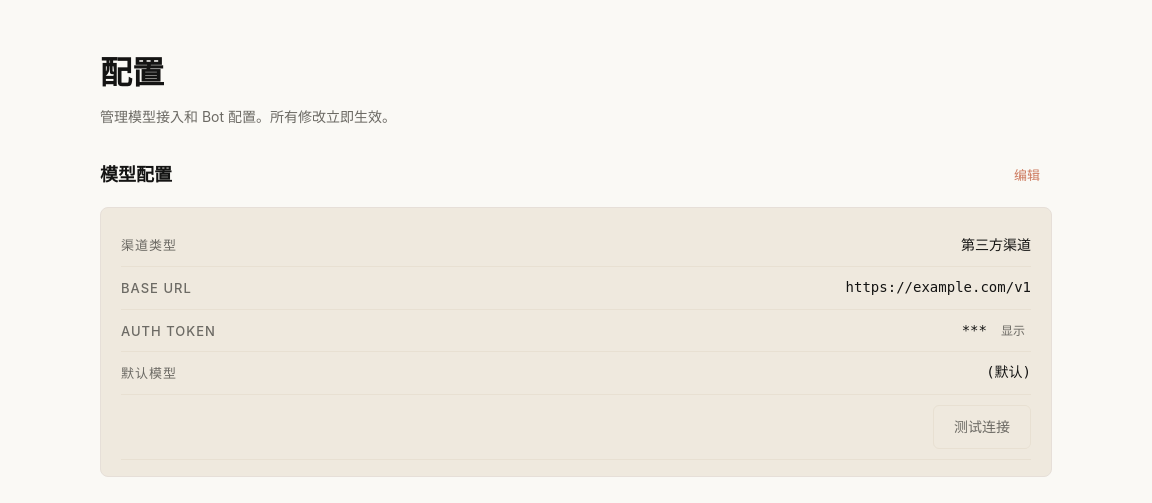
it: Config Page › Model Config Section › reveals masked Auth Token by loading plaintext admin config
The image size is (1152, 503).
Expected: the heading "模型配置" is shown, [100, 161, 172, 189]
Click the button "编辑" at (1027,175), box [1002, 159, 1052, 191]
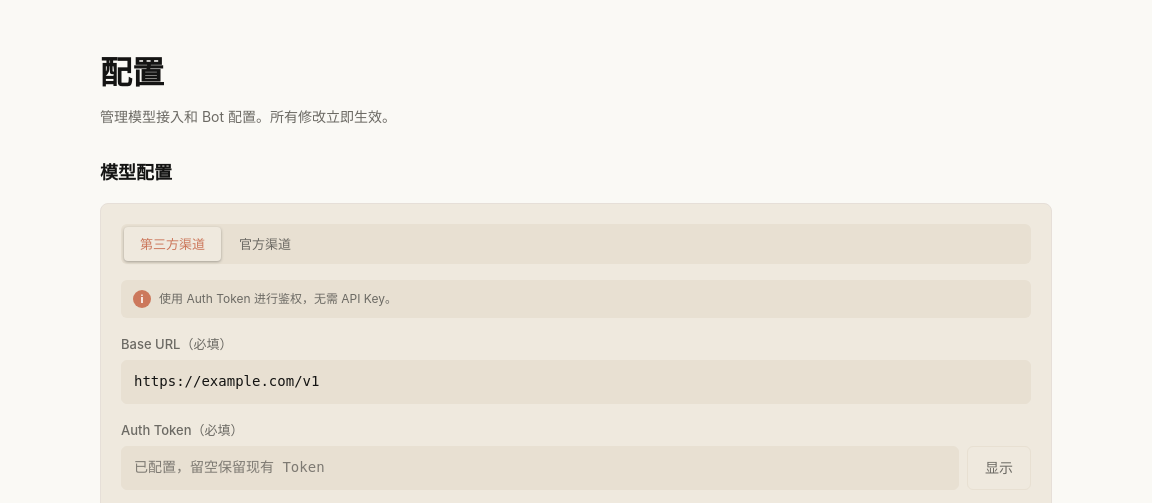
Expected: the password field with placeholder "已配置，留空保留现有 Token" is empty, [121, 446, 959, 490]
Click the button "显示" at (999,468), box [967, 446, 1031, 490]
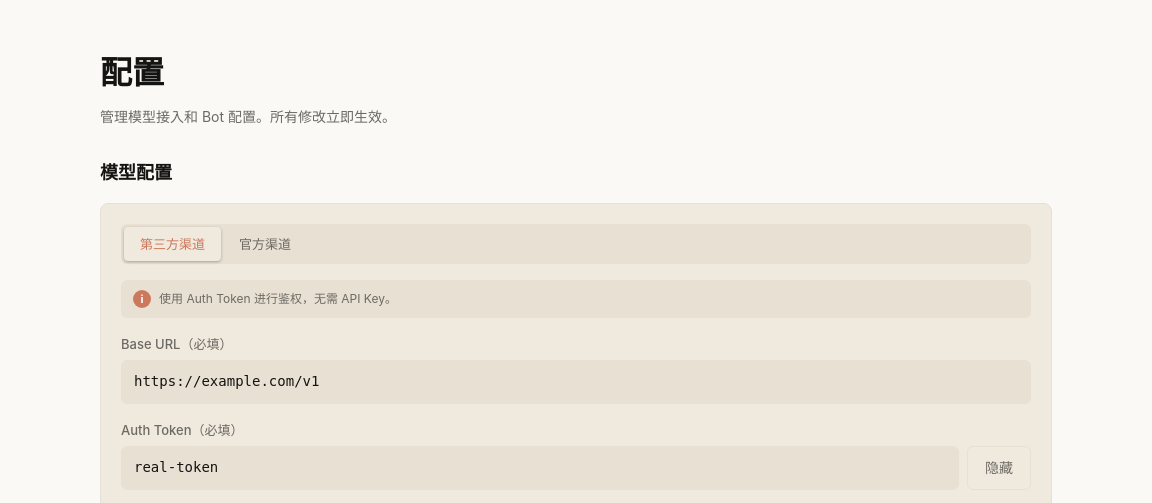
Expected: the field with placeholder "已配置，留空保留现有 Token" holds "real-token", [121, 446, 959, 490]
